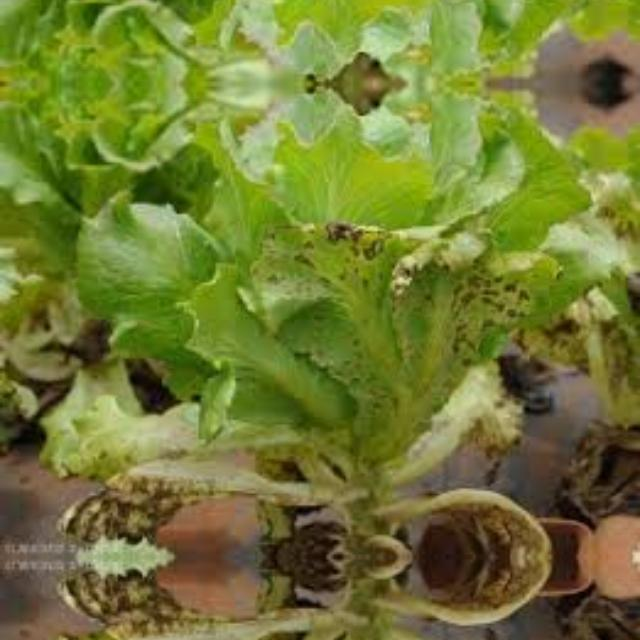Lettuce - Anthracnose: (245, 214, 532, 416), (72, 448, 336, 556), (72, 557, 335, 640), (366, 490, 544, 556), (366, 556, 544, 622)
